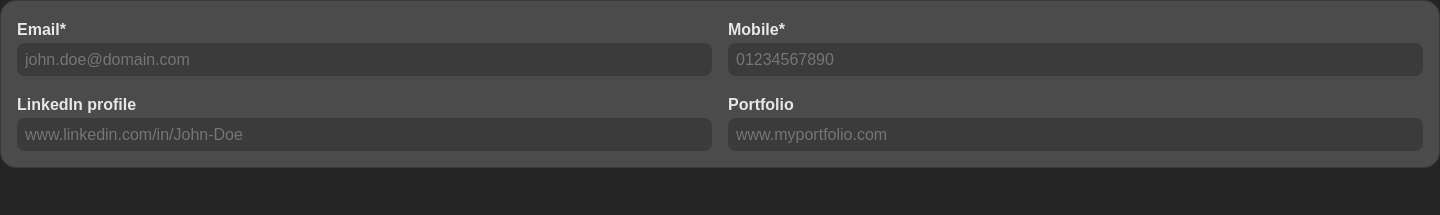
Test case: Testing ContactDetails component › Testing form validation › Shows error message when invalid character is input to mobile
Type "w" into the field with placeholder "01234567890" at (1076, 59), box [728,43,1423,76]
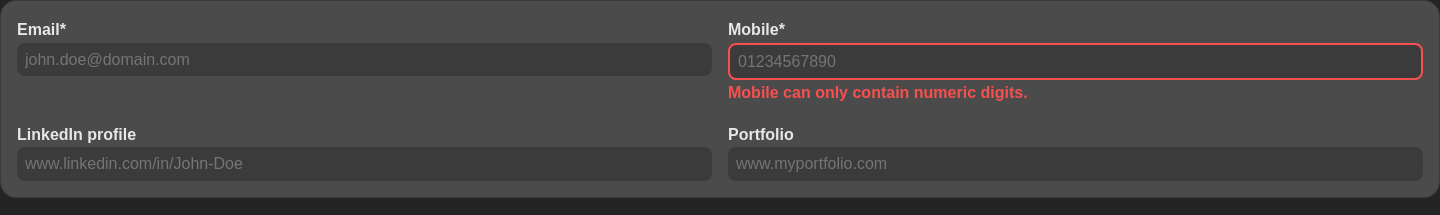
Expected: the text "Mobile can only contain numeric digits." is shown, [728,84,1028,101]
